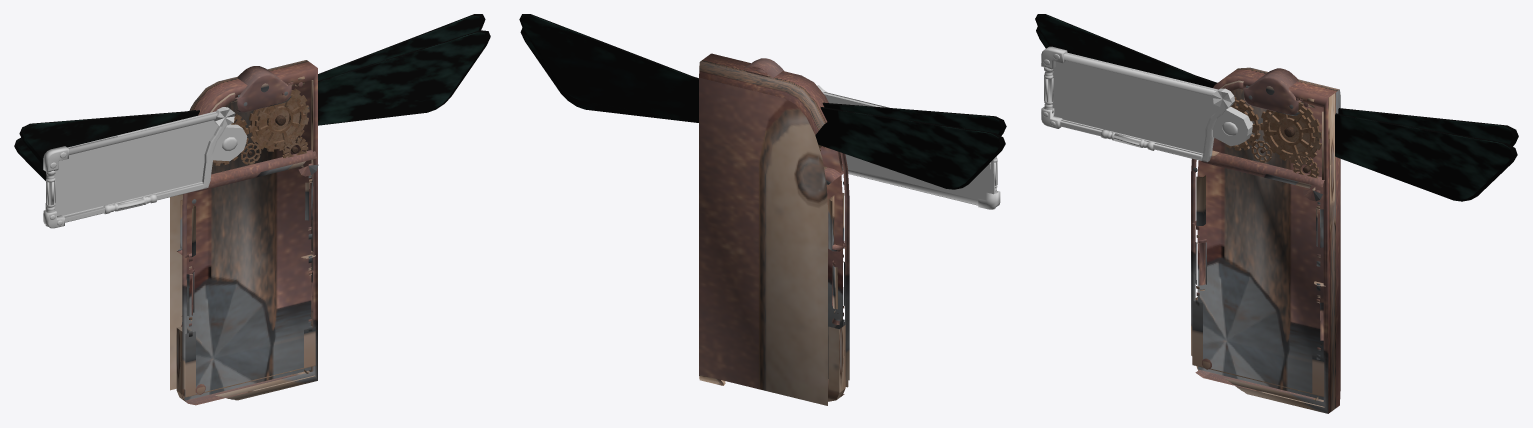
Rendered from UIPhone.fbx.
The picture shows the model from 3 angles, left to right: view 1: azimuth 30°, elevation 25°; view 2: azimuth 150°, elevation 25°; view 3: azimuth 330°, elevation 25°; orthographic projection.
Parts seen in each view (by area): view 1: Backing, HealthBar, GhostShard6, GhostShard1, Cog4; view 2: Backing, GhostShard1, GhostShard6, HealthBar; view 3: Backing, HealthBar, GhostShard6, GhostShard1, Cog4, Cog3.
Part boxes in pixels (left/top/right/bottom): Backing: left=170, top=60, right=318, bottom=405; HealthBar: left=43, top=107, right=247, bottom=228; GhostShard6: left=318, top=14, right=490, bottom=125; GhostShard1: left=14, top=110, right=199, bottom=180; Cog4: left=248, top=88, right=309, bottom=151; Backing: left=699, top=53, right=849, bottom=405; GhostShard1: left=815, top=102, right=1006, bottom=189; GhostShard6: left=519, top=14, right=698, bottom=122; HealthBar: left=817, top=85, right=1000, bottom=209; Backing: left=1191, top=67, right=1340, bottom=413; HealthBar: left=1041, top=46, right=1252, bottom=162; GhostShard6: left=1335, top=108, right=1518, bottom=201; GhostShard1: left=1035, top=14, right=1217, bottom=87; Cog4: left=1260, top=102, right=1321, bottom=163; Cog3: left=1219, top=97, right=1260, bottom=150.
Bounding box in the file's own units: 345 × 224 × 30.27.
